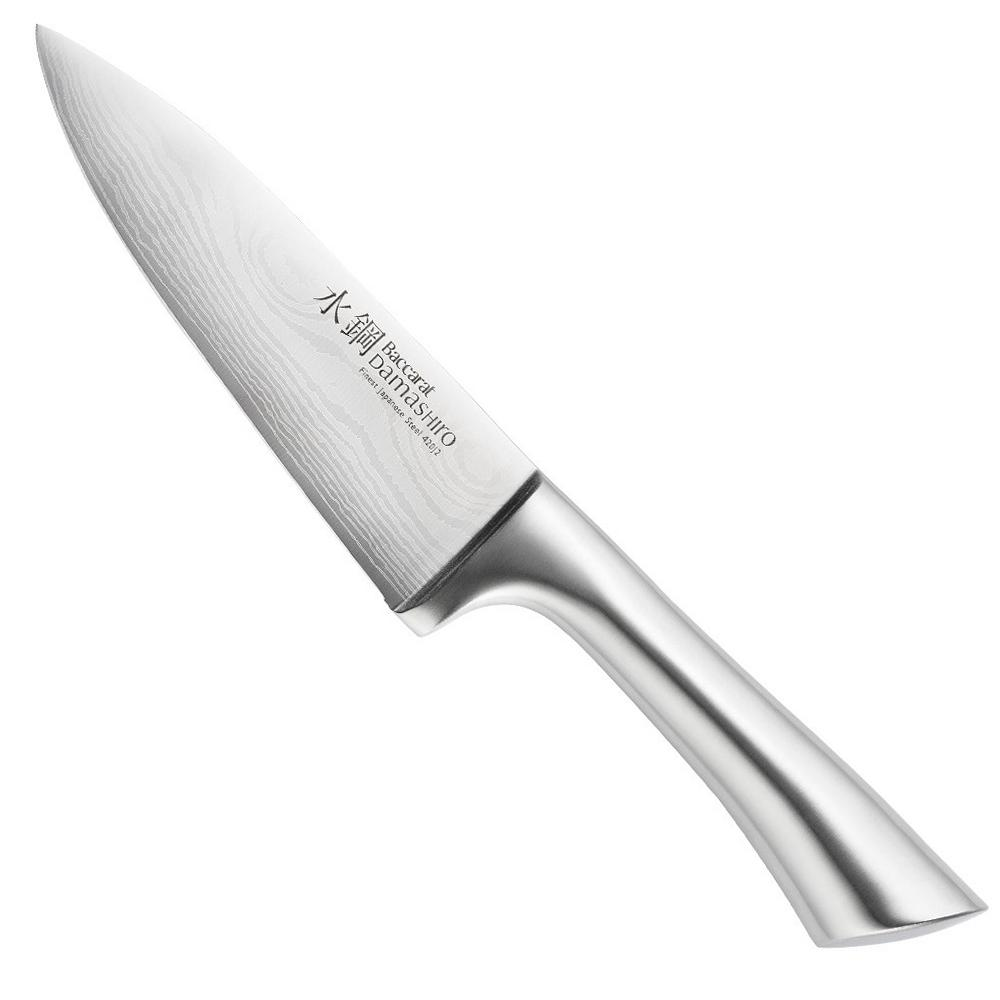knife: (32, 24, 997, 945)
